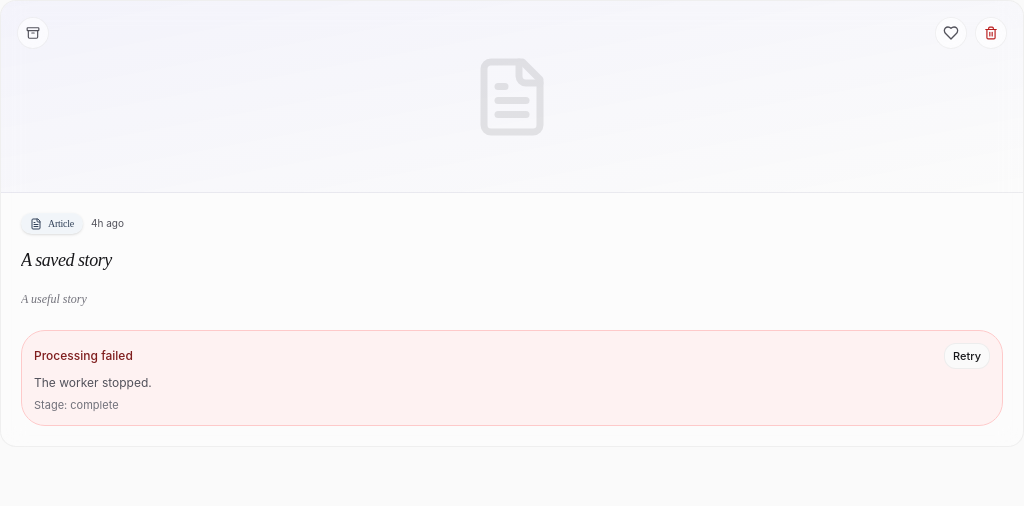
Scenario: ItemCard recovery actions › keeps retry errors visible and actionable when the queue rejects them
Click the button with aria-label "Retry processing".
click(967, 356)  # box [944,342,990,369]
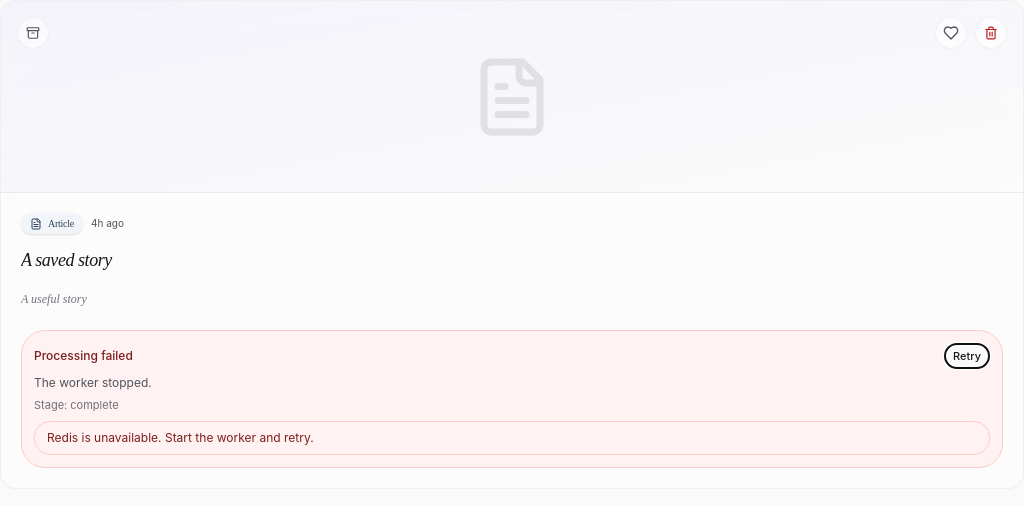
Expected: the message shows "Redis is unavailable", [47,430,314,445]
